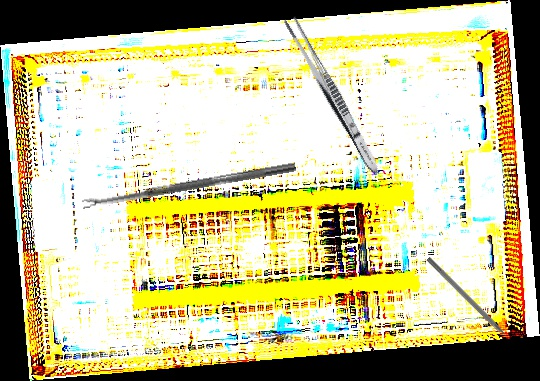Dressing Forceps: (279, 12, 386, 179)
Hook Surgical: (425, 256, 516, 347)
Surgical Spoon: (81, 161, 297, 209)
